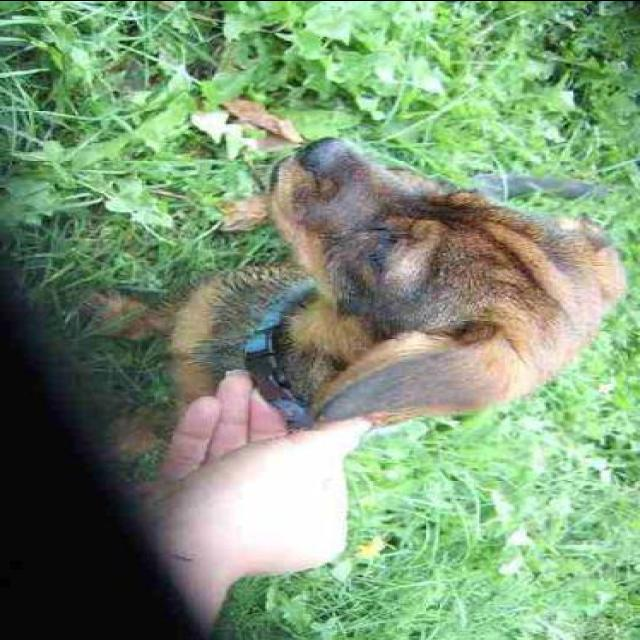dog: (80, 125, 620, 475)
